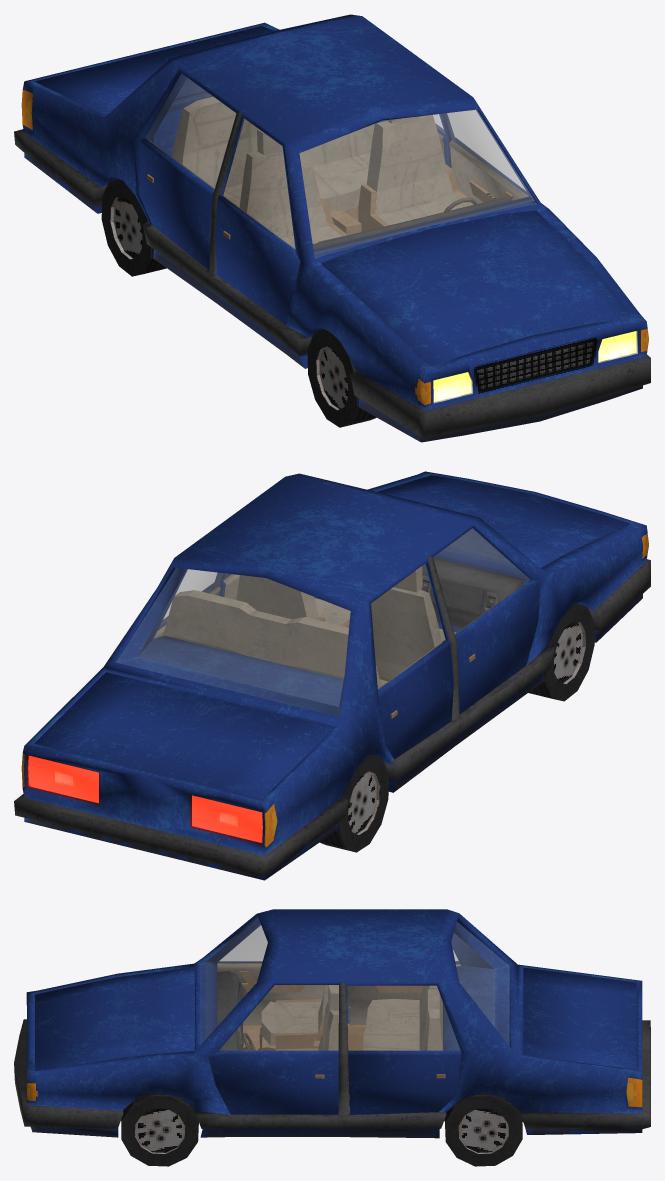
The model's file is Car1.glb.
3 views of the same model, one above another, from view 1: azimuth 30°, elevation 25°; view 2: azimuth 150°, elevation 25°; view 3: azimuth 270°, elevation 25° (orthographic). The views are drawn at different scales.
Parts seen in each view (by area): view 1: Car_Base, car_hood, R_Door_Front, R_Door_Back, trunk, L_Door_Front, R_Wheel_Front, R_Wheel_Back; view 2: Car_Base, trunk, R_Door_Front, R_Door_Back, car_hood, R_Wheel_Back, R_Wheel_Front, L_Door_Back; view 3: Car_Base, L_Door_Front, L_Door_Back, car_hood, trunk, L_Wheel_front, L_Wheel_Back, R_Door_Front, R_Door_Back.
Part boxes in pixels (x1,y1,x2,y2): Car_Base: (14, 14, 650, 442); car_hood: (322, 210, 630, 366); R_Door_Front: (214, 118, 300, 325); R_Door_Back: (140, 74, 235, 270); trunk: (34, 26, 272, 115); L_Door_Front: (446, 110, 529, 203); R_Wheel_Front: (307, 329, 376, 427); R_Wheel_Back: (101, 179, 166, 276); Car_Base: (14, 471, 650, 880); trunk: (34, 672, 333, 798); R_Door_Front: (433, 528, 540, 714); R_Door_Back: (371, 564, 453, 758); car_hood: (377, 475, 629, 567); R_Wheel_Back: (320, 754, 388, 852); R_Wheel_Front: (528, 603, 594, 701); L_Door_Back: (154, 569, 222, 638); Car_Base: (14, 909, 650, 1138); L_Door_Front: (208, 985, 338, 1114); L_Door_Back: (347, 986, 461, 1114); car_hood: (34, 967, 195, 1070); trunk: (523, 967, 636, 1069); L_Wheel_front: (121, 1093, 198, 1166); L_Wheel_Back: (445, 1093, 522, 1166); R_Door_Front: (217, 926, 324, 1025); R_Door_Back: (348, 951, 460, 1025).
Bounding box in the file's own units: 1.71 × 1.48 × 4.73.
Materials: 2 (2 with a texture image).
